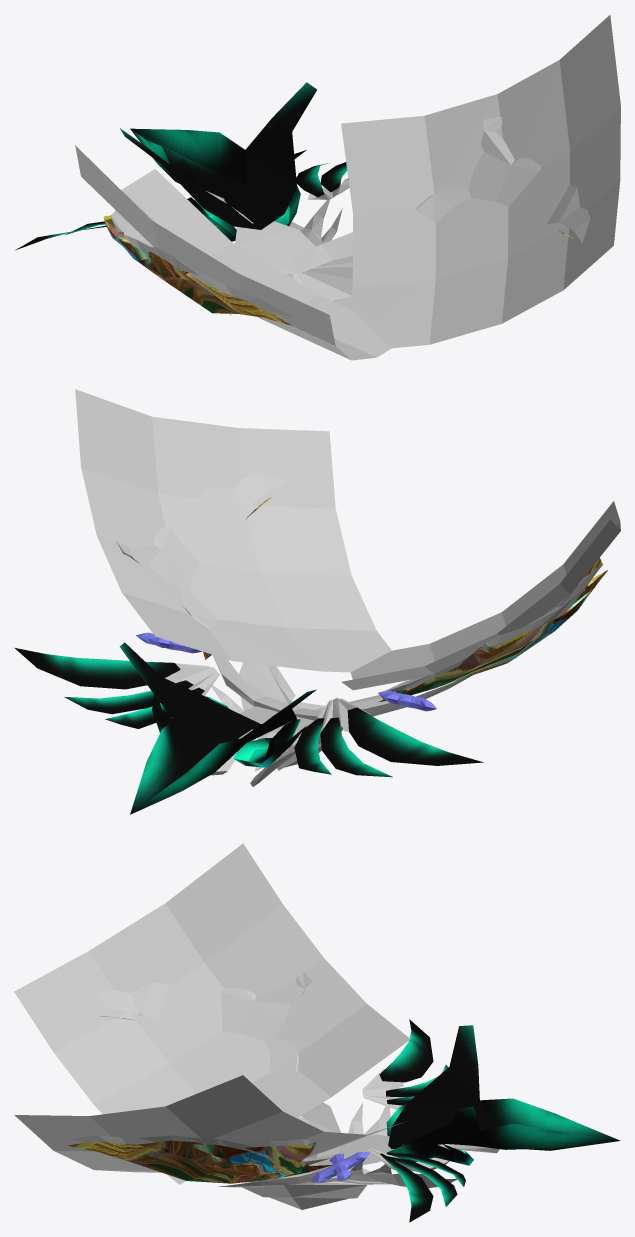
The model's file is common_lefthandshield_64710.obj.
3 views of the same model, one above another, from view 1: azimuth 30°, elevation 25°; view 2: azimuth 150°, elevation 25°; view 3: azimuth 270°, elevation 25° (orthographic). The views are drawn at different scales.
Visible parts, largest first — view 1: Plane02, common_leftHandShield_64710, Plane01, saoguang; view 2: Plane02, common_leftHandShield_64710, Plane01, saoguang, tx_shizijia02; view 3: Plane01, common_leftHandShield_64710, Plane02, saoguang, tx_shizijia01.
Part boxes in pixels (x1,y1,x2,y2): Plane02: (341, 15, 620, 348); common_leftHandShield_64710: (15, 82, 590, 318); Plane01: (75, 145, 391, 360); saoguang: (103, 215, 573, 325); Plane02: (75, 389, 391, 672); common_leftHandShield_64710: (14, 472, 602, 814); Plane01: (341, 501, 620, 690); saoguang: (203, 497, 607, 702); tx_shizijia02: (378, 690, 436, 711); Plane01: (14, 843, 410, 1184); common_leftHandShield_64710: (70, 972, 620, 1222); Plane02: (14, 1075, 404, 1172); saoguang: (68, 1016, 331, 1183); tx_shizijia01: (311, 1152, 370, 1182).
Bounding box in the file's own units: 69.74 × 35.19 × 77.16.
